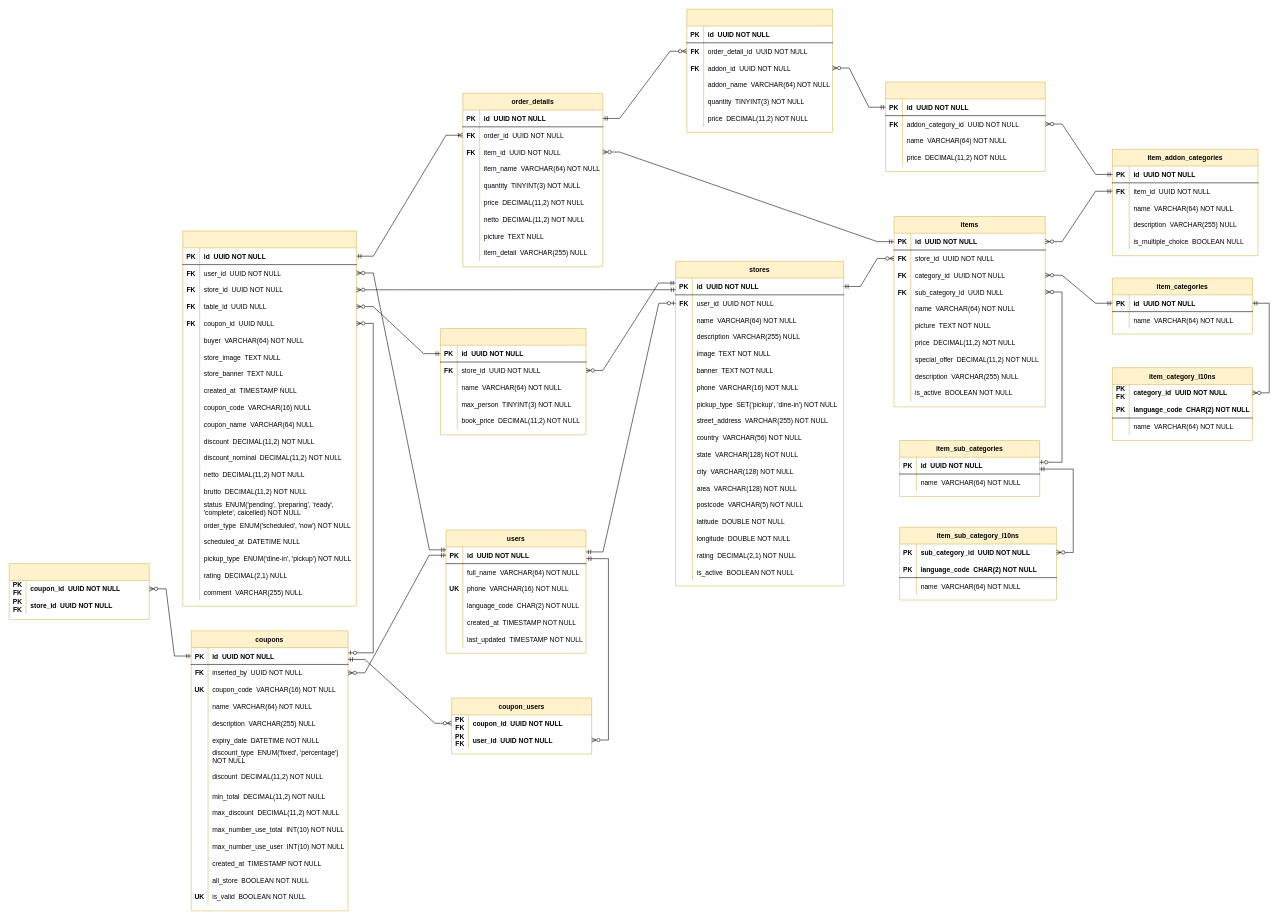
The diagram is 1278 pixels wide and 920 high, and some of its shapes have lost their labels. The box of each missing label's shape, as (x1, y1, x2, y2) in pixels:
coupon_stores: (9, 563, 149, 620)
item_addons: (885, 81, 1045, 172)
order_detail_addons: (686, 9, 832, 132)
orders: (182, 230, 356, 606)
tables: (440, 328, 586, 435)
